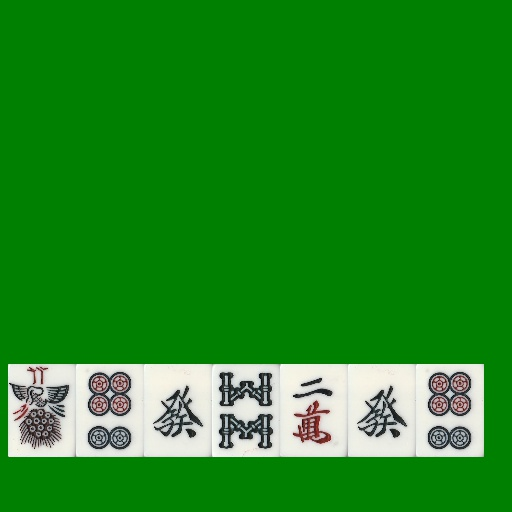1s: (8, 364, 76, 457)
2m: (280, 364, 348, 457)
6p: (76, 364, 144, 457), (416, 364, 484, 457)
8s: (212, 364, 280, 457)
hatsu: (144, 364, 212, 457), (348, 364, 416, 457)
